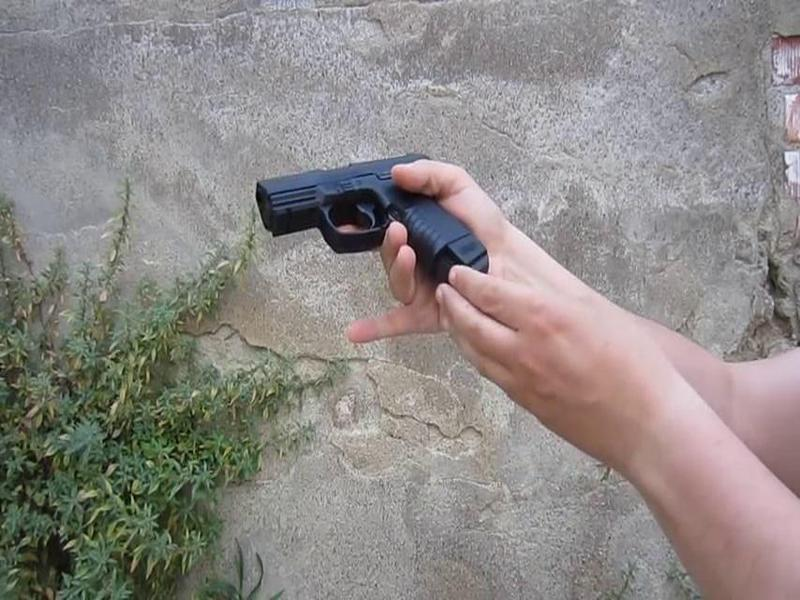Pistola: (248, 124, 497, 300)
